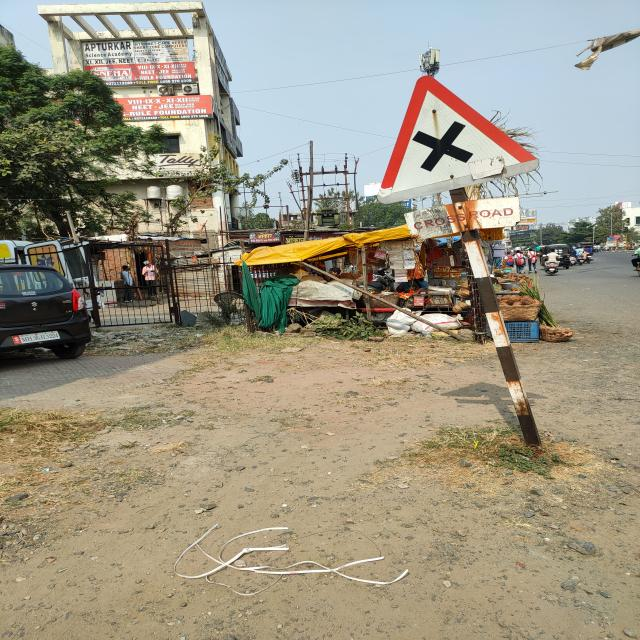cross_road: (376, 76, 541, 204)
